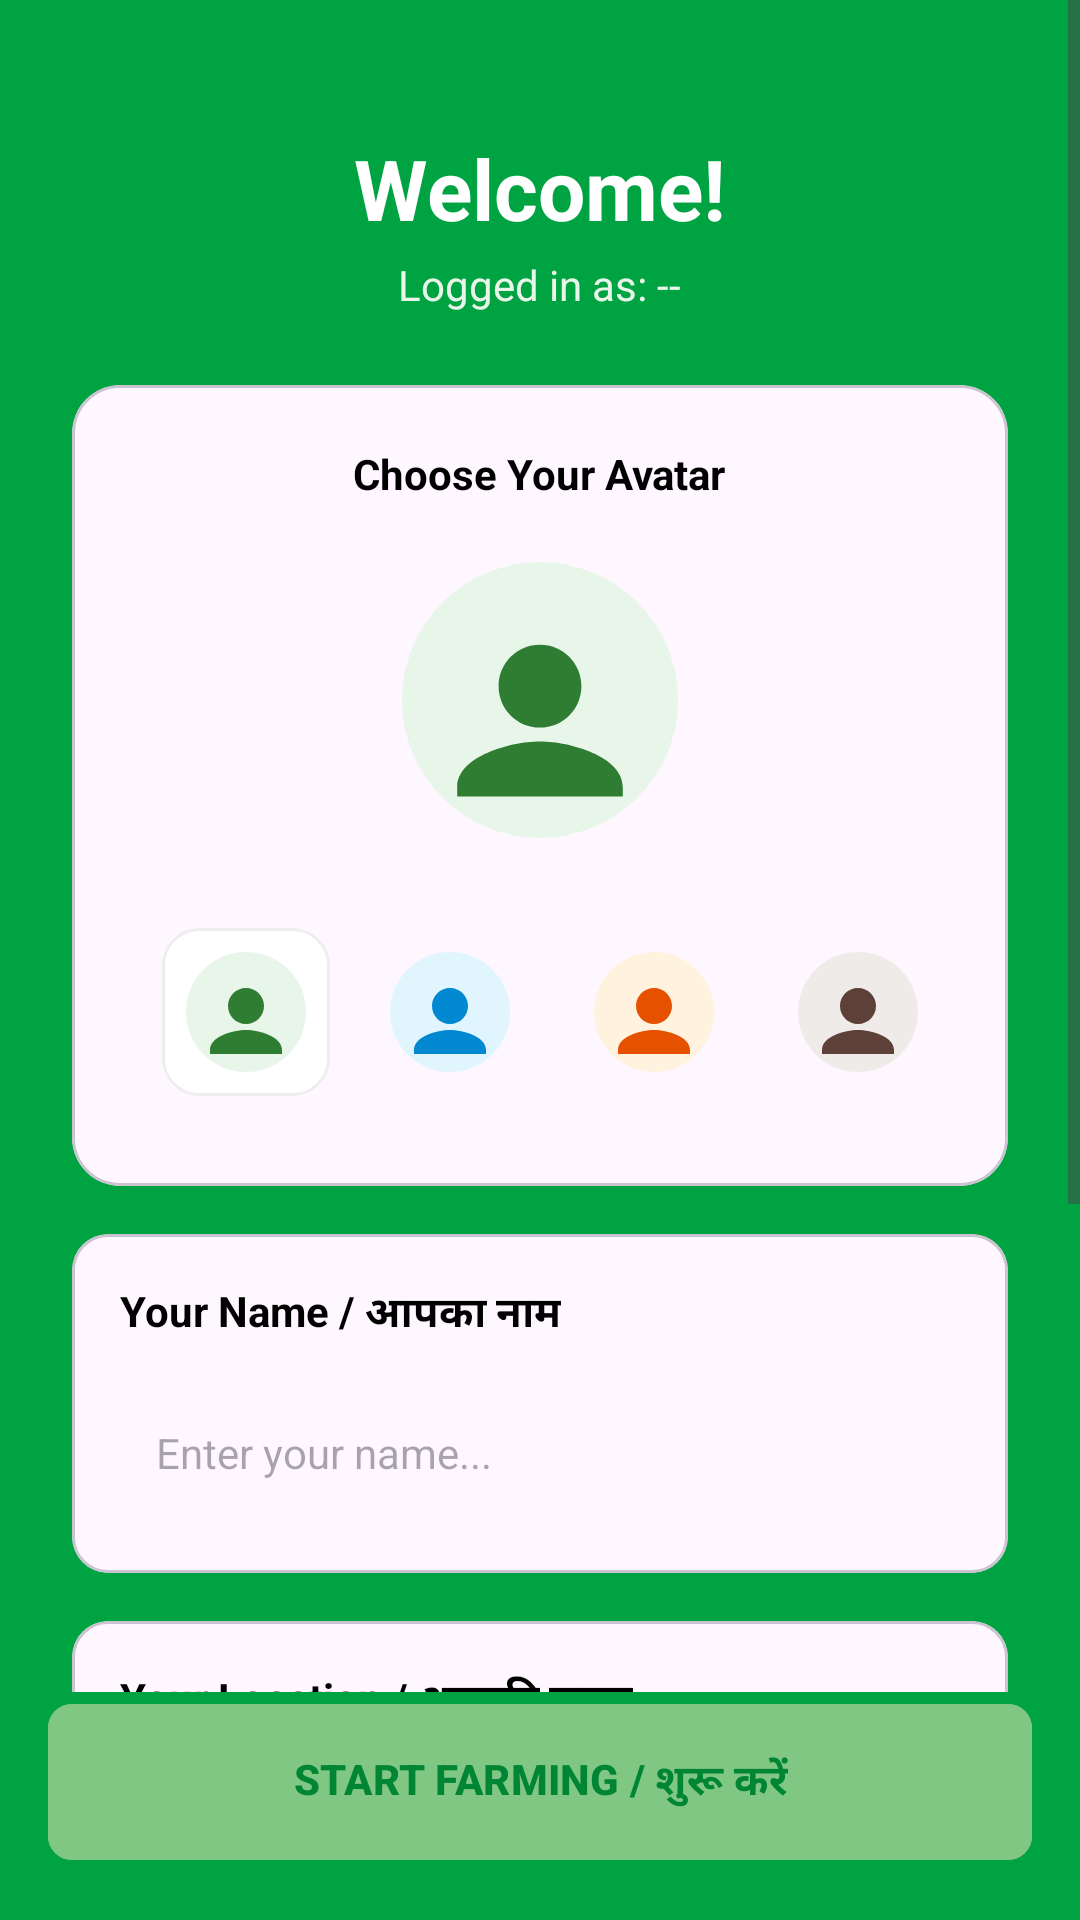

Where to tap for icons on this 1080x1920 app screen, as point (x, y):
Selected Avatar: point (540, 720)
